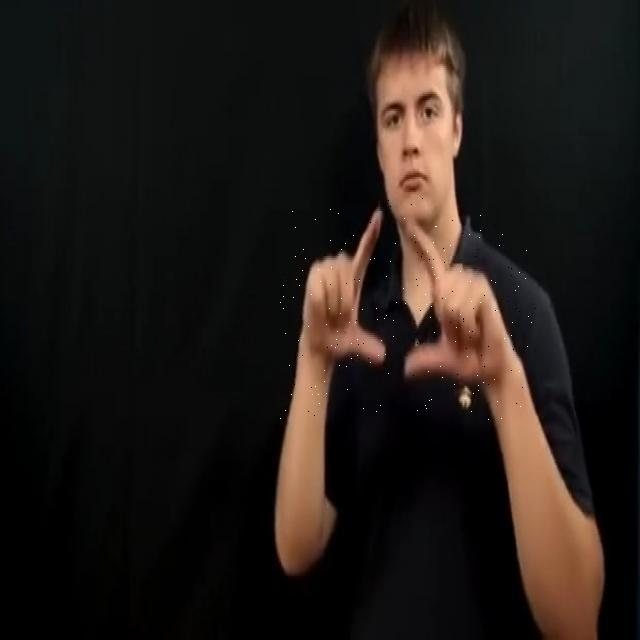bill: (270, 198, 536, 422)
